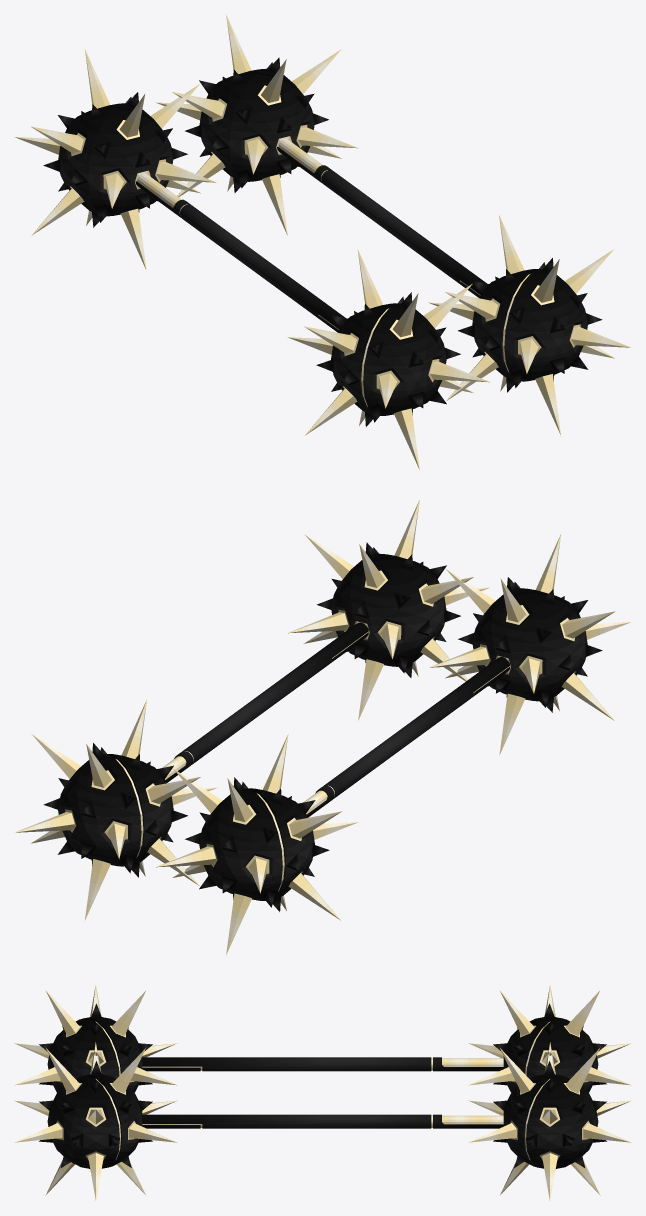
Rendered from blackstar.glb.
3 renders of one model, top to bottom at view 1: azimuth 30°, elevation 25°; view 2: azimuth 150°, elevation 25°; view 3: azimuth 270°, elevation 25°, orthographic. The views are drawn at different scales.
Parts seen in each view (by area): view 1: off__Tool_L, main__Tool_R; view 2: off__Tool_L, main__Tool_R; view 3: main__Tool_R, off__Tool_L.
Part boxes in pixels (x1=…): off__Tool_L: x1=15, y1=49, x2=489, y2=470; main__Tool_R: x1=156, y1=15, x2=630, y2=434; off__Tool_L: x1=156, y1=534, x2=630, y2=955; main__Tool_R: x1=15, y1=500, x2=489, y2=919; main__Tool_R: x1=14, y1=1042, x2=631, y2=1200; off__Tool_L: x1=14, y1=985, x2=631, y2=1092.
Size of the model in its own units: 2.21 by 1.21 by 4.56.
1 material, 1 textured.
